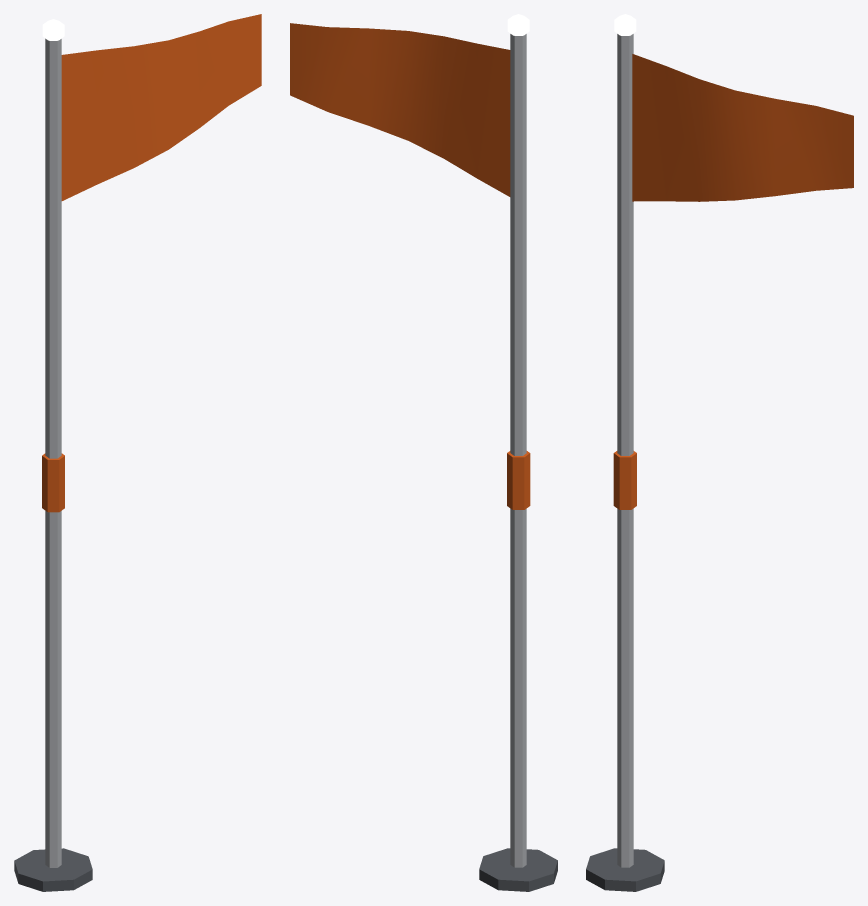
The model's file is flag_marker.glb.
The picture shows the model from 3 angles, left to right: view 1: azimuth 30°, elevation 25°; view 2: azimuth 150°, elevation 25°; view 3: azimuth 330°, elevation 25°; orthographic projection.
Parts seen in each view (by area): view 1: body; view 2: body; view 3: body.
Boxes of the visible parts, x1=… form: body: x1=14, y1=14, x2=261, y2=891; body: x1=290, y1=14, x2=557, y2=891; body: x1=586, y1=14, x2=853, y2=891.
Size of the model in its own units: 0.504 by 1.63 by 0.14.
